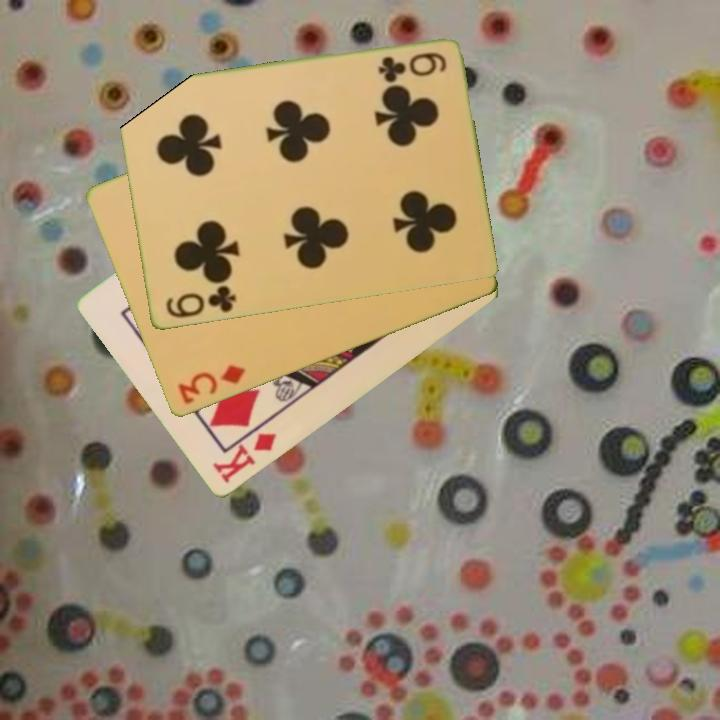3d: (174, 361, 249, 408)
6c: (161, 282, 239, 322), (374, 49, 449, 83)
Kd: (208, 429, 279, 487)
